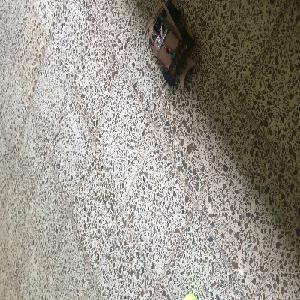Robot: (146, 0, 196, 88)
